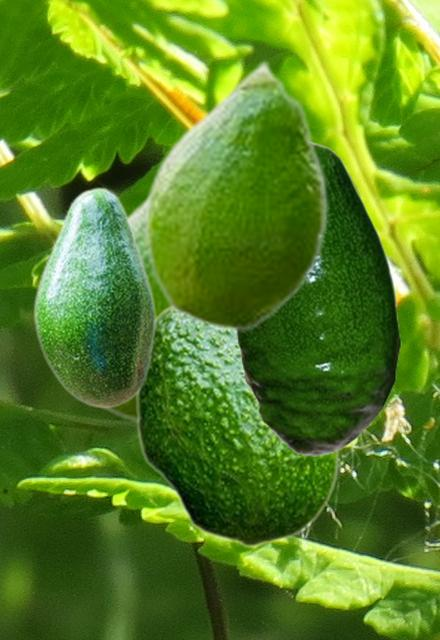avocado: (234, 140, 400, 455), (143, 58, 328, 331), (134, 304, 338, 546), (32, 186, 155, 408), (92, 191, 165, 423)
